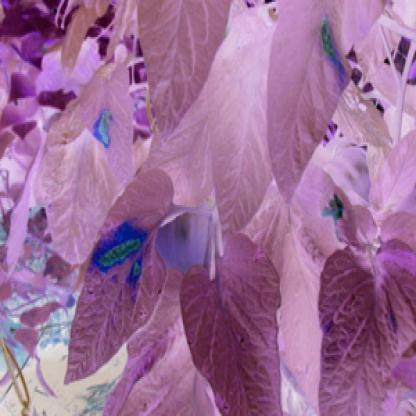Tomato Early blight leaf: (62, 161, 188, 381)
